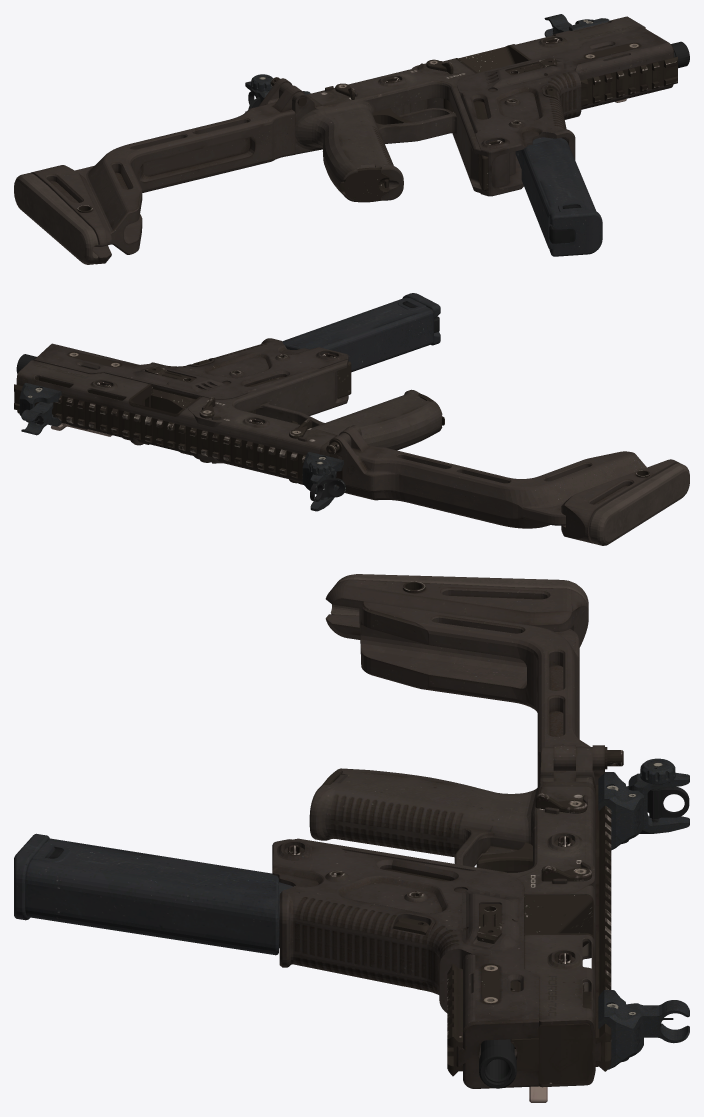
The model's file is fireteam_orange_weapon.glb.
The picture shows the model from 3 angles, top to bottom: view 1: azimuth 30°, elevation 25°; view 2: azimuth 150°, elevation 25°; view 3: azimuth 270°, elevation 25°; orthographic projection. The views are drawn at different scales.
Visible parts, largest first — view 1: attachment_vm_sm_victor_receiver_weapon_vm_sm_victor_body_0, attachment_vm_sm_victor_stock_weapon_vm_sm_victor_stock_0, attachment_vm_sm_victor_mag.001_weapon_vm_sm_victor_mag_0, attachment_vm_sm_victor_tag_sight_on_weapon_vm_sm_victor_sig; view 2: attachment_vm_sm_victor_receiver_weapon_vm_sm_victor_body_0, attachment_vm_sm_victor_stock_weapon_vm_sm_victor_stock_0, attachment_vm_sm_victor_mag.001_weapon_vm_sm_victor_mag_0, attachment_vm_sm_victor_tag_sight_on_weapon_vm_sm_victor_sig; view 3: attachment_vm_sm_victor_receiver_weapon_vm_sm_victor_body_0, attachment_vm_sm_victor_stock_weapon_vm_sm_victor_stock_0, attachment_vm_sm_victor_mag.001_weapon_vm_sm_victor_mag_0, attachment_vm_sm_victor_tag_sight_on_weapon_vm_sm_victor_sig, attachment_vm_sm_victor_barrel_tip_weapon_vm_sm_victor_body_, attachment_vm_sm_victor_barrel_weapon_vm_sm_victor_body_0.
Boxes of the visible parts, box(x1,y1,x2,y2) form: attachment_vm_sm_victor_receiver_weapon_vm_sm_victor_body_0: box(279, 16, 677, 202); attachment_vm_sm_victor_stock_weapon_vm_sm_victor_stock_0: box(14, 77, 306, 264); attachment_vm_sm_victor_mag.001_weapon_vm_sm_victor_mag_0: box(515, 137, 602, 256); attachment_vm_sm_victor_tag_sight_on_weapon_vm_sm_victor_sig: box(245, 14, 609, 112); attachment_vm_sm_victor_receiver_weapon_vm_sm_victor_body_0: box(14, 338, 444, 492); attachment_vm_sm_victor_stock_weapon_vm_sm_victor_stock_0: box(326, 426, 689, 545); attachment_vm_sm_victor_mag.001_weapon_vm_sm_victor_mag_0: box(282, 293, 440, 372); attachment_vm_sm_victor_tag_sight_on_weapon_vm_sm_victor_sig: box(19, 382, 345, 511); attachment_vm_sm_victor_receiver_weapon_vm_sm_victor_body_0: box(272, 747, 611, 1102); attachment_vm_sm_victor_stock_weapon_vm_sm_victor_stock_0: box(325, 574, 623, 786); attachment_vm_sm_victor_mag.001_weapon_vm_sm_victor_mag_0: box(14, 833, 292, 955); attachment_vm_sm_victor_tag_sight_on_weapon_vm_sm_victor_sig: box(598, 758, 689, 1069); attachment_vm_sm_victor_barrel_tip_weapon_vm_sm_victor_body_: box(479, 1045, 516, 1088); attachment_vm_sm_victor_barrel_weapon_vm_sm_victor_body_0: box(481, 1039, 514, 1082).
Size of the model in its own units: 0.75 by 0.0907 by 0.4505.
Materials: 6 (6 with a texture image).
